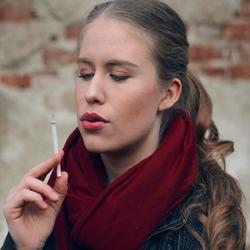cigarette: (50, 113, 61, 178)
